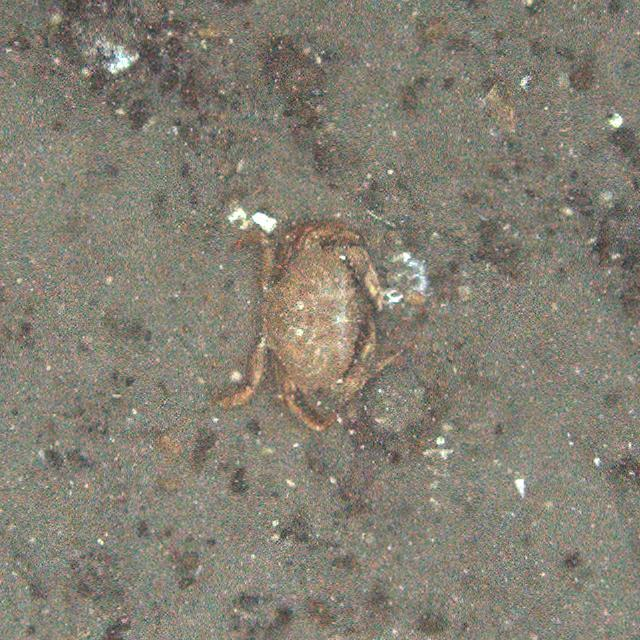crab: (233, 215, 383, 430)
